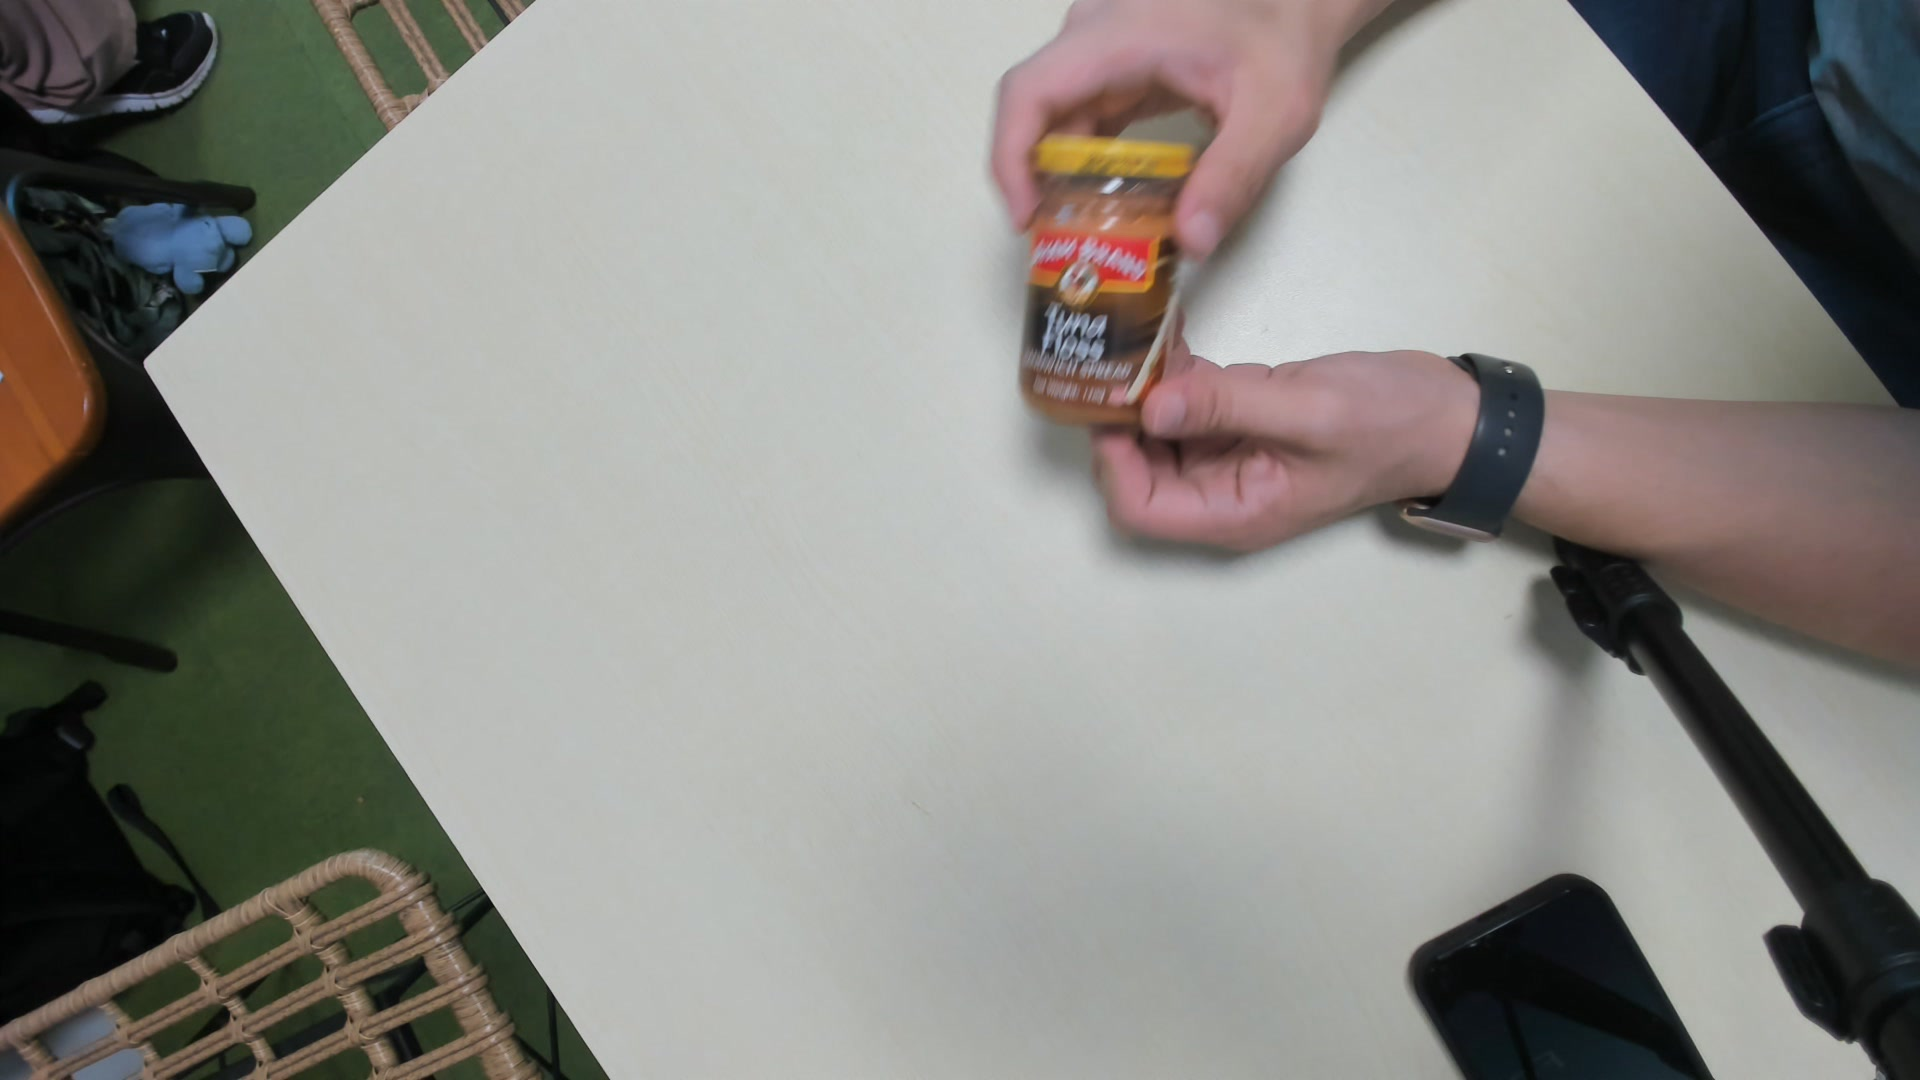OtherSauceDressing_200-299g_Halal_NonHealthy: (1025, 131, 1187, 421)
